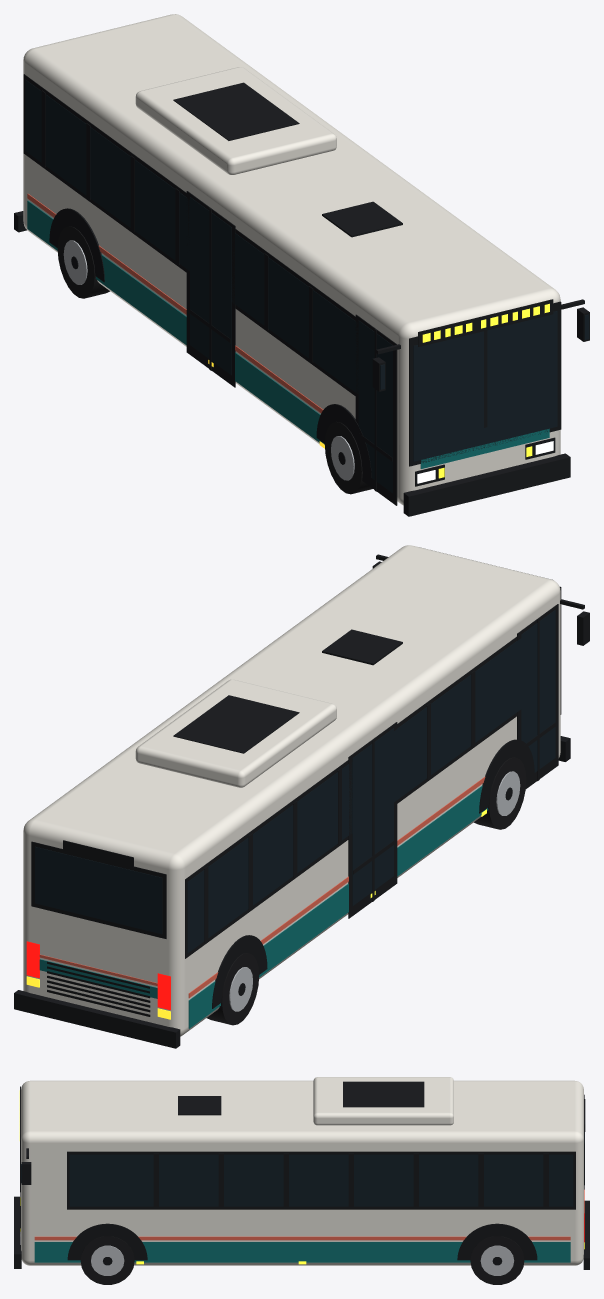
File: islander-bus.glb
3 views of the same model, one above another, from view 1: azimuth 30°, elevation 25°; view 2: azimuth 150°, elevation 25°; view 3: azimuth 270°, elevation 25° (orthographic). The views are drawn at different scales.
Visible parts, largest first — view 1: bus paint, bus glass, bus trim, bus livery teal, bus tyre, bus hub, bus livery coral, bus sign; view 2: bus paint, bus glass, bus trim, bus livery teal, bus tyre, bus livery coral, bus hub, bus taillight; view 3: bus paint, bus glass, bus trim, bus livery teal, bus tyre, bus livery coral, bus hub.
Part boxes in pixels (box(x1,y1,x2,y2)): bus paint: box(23, 14, 560, 505); bus glass: box(25, 79, 589, 493); bus trim: box(14, 74, 589, 516); bus livery teal: box(27, 200, 549, 468); bus tyre: box(57, 226, 372, 494); bus hub: box(63, 240, 354, 480); bus livery coral: box(27, 193, 323, 412); bus sign: box(208, 303, 549, 478); bus paint: box(23, 545, 560, 1036); bus glass: box(35, 610, 555, 953); bus trim: box(14, 554, 589, 1048); bus livery teal: box(39, 785, 488, 1028); bus tyre: box(207, 757, 526, 1025); bus livery coral: box(39, 776, 485, 998); bus hub: box(229, 771, 520, 1011); bus taillight: box(26, 941, 170, 1010); bus paint: box(21, 1077, 583, 1265); bus glass: box(21, 1132, 584, 1206); bus trim: box(14, 1081, 589, 1269); bus livery teal: box(34, 1242, 570, 1262); bus tyre: box(80, 1236, 524, 1284); bus livery coral: box(34, 1189, 584, 1240); bus hub: box(91, 1245, 514, 1275).
Size of the model in its own units: 3.28 by 3.29 by 10.64.
